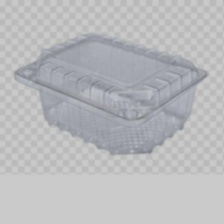plastic_box: (10, 24, 214, 159)
